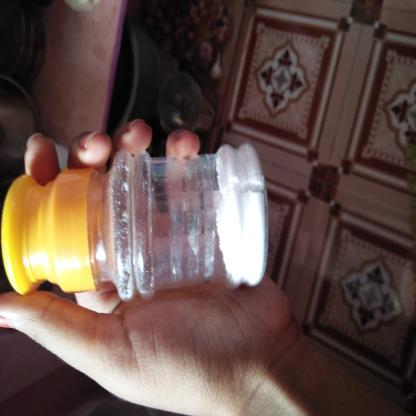bottle: (86, 1, 206, 361)
